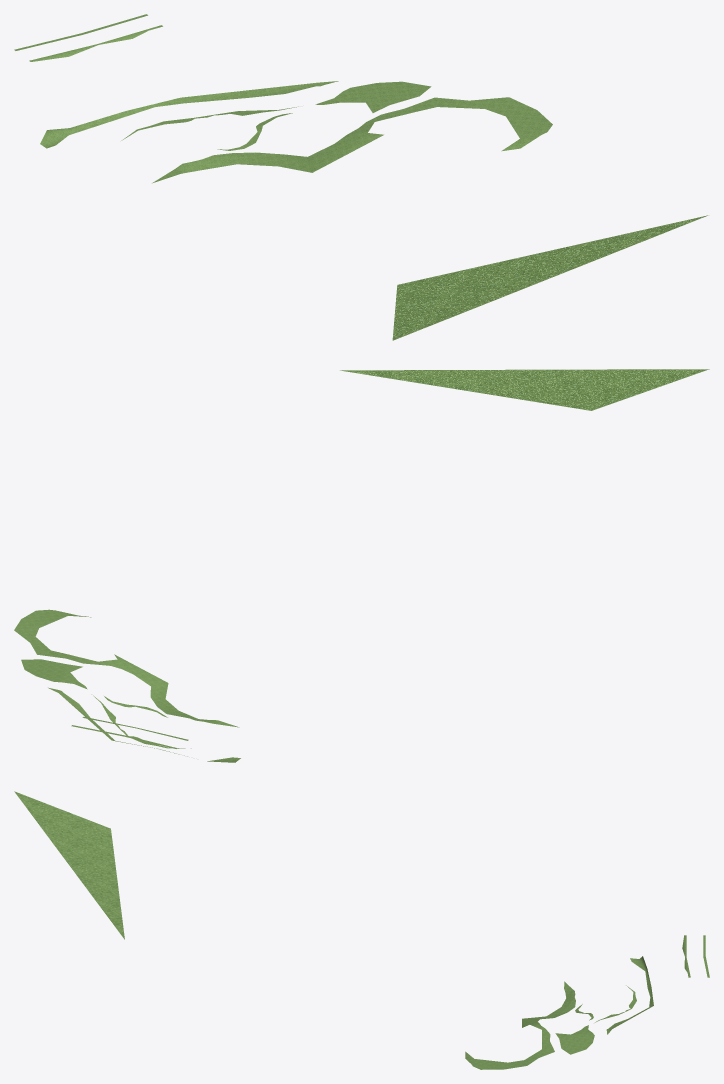
Rendered from kd_stage_135fe0_0_7.glb.
3 views of the same model, one above another, from view 1: azimuth 30°, elevation 25°; view 2: azimuth 150°, elevation 25°; view 3: azimuth 270°, elevation 25° (orthographic). The views are drawn at different scales.
Parts seen in each view (by area): view 1: kd_stage_135fe0_0_7; view 2: kd_stage_135fe0_0_7; view 3: kd_stage_135fe0_0_7.
Boxes of the visible parts, bbox=[...] form: kd_stage_135fe0_0_7: bbox=[14, 14, 708, 340]; kd_stage_135fe0_0_7: bbox=[14, 369, 709, 762]; kd_stage_135fe0_0_7: bbox=[14, 791, 709, 1069].
Size of the model in its own units: 163 by 60.71 by 292.
Materials: 1 (1 with a texture image).
